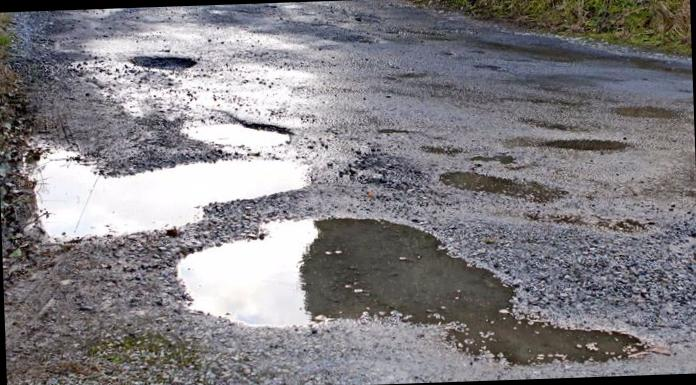pothole: (171, 201, 671, 381), (17, 147, 318, 264), (406, 162, 566, 208), (179, 110, 310, 152), (506, 128, 635, 162), (122, 34, 211, 82), (605, 98, 680, 123)
